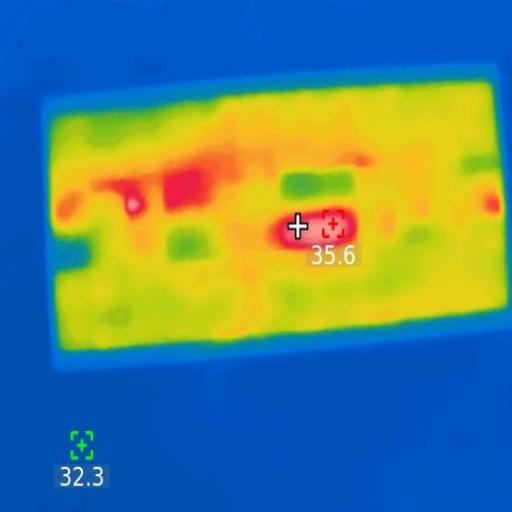hotspot: (274, 212, 356, 247), (165, 173, 207, 209), (118, 179, 145, 216), (488, 195, 499, 213)
